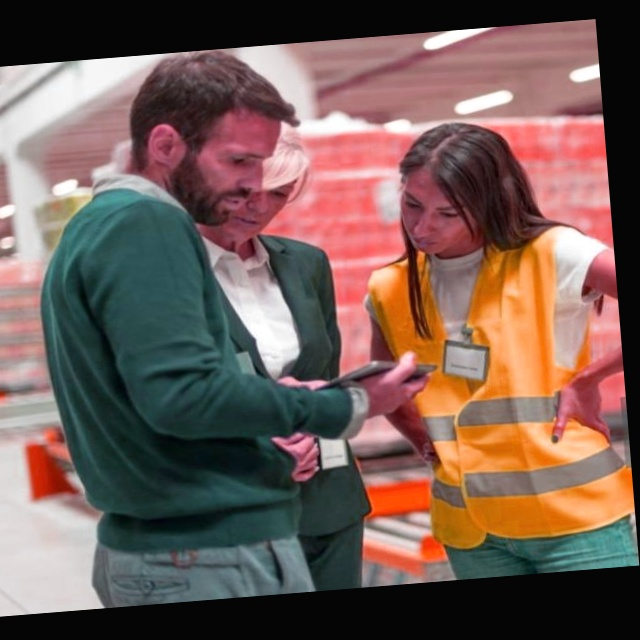Con_Chaleco: (364, 223, 632, 536)
Sin_Casco_Mascarrilla: (125, 47, 296, 234), (393, 118, 521, 259)
